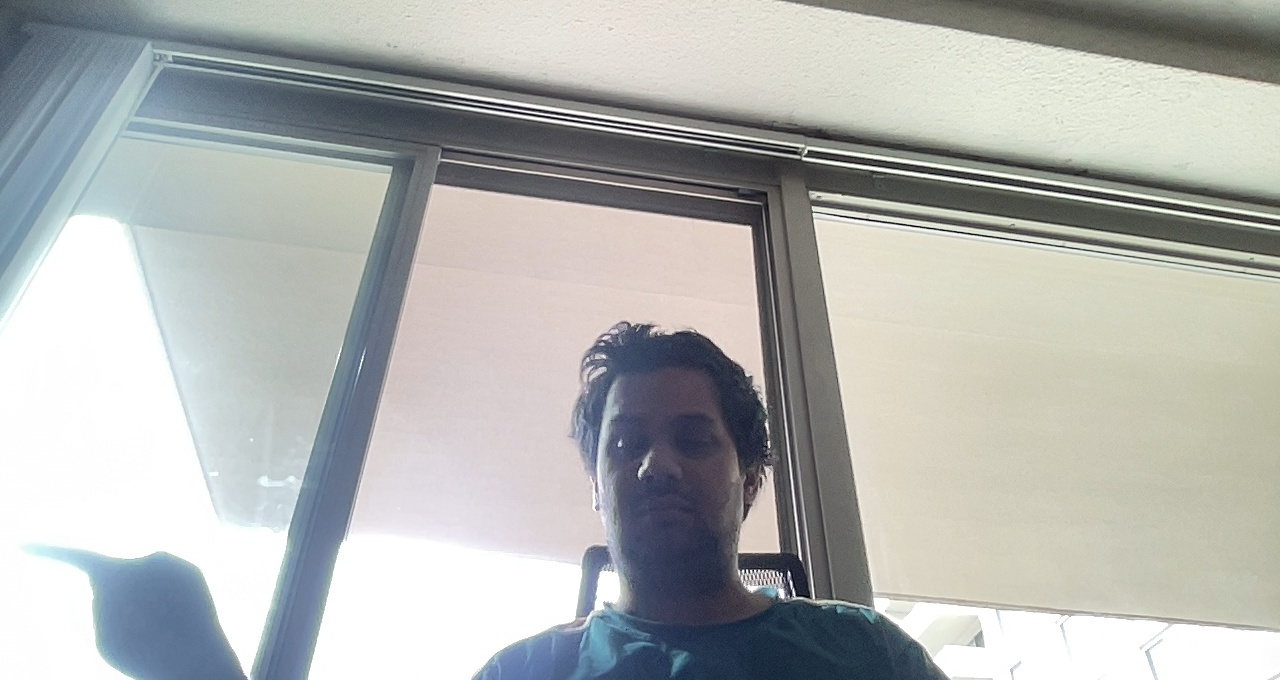fingerright: (19, 529, 252, 678)
